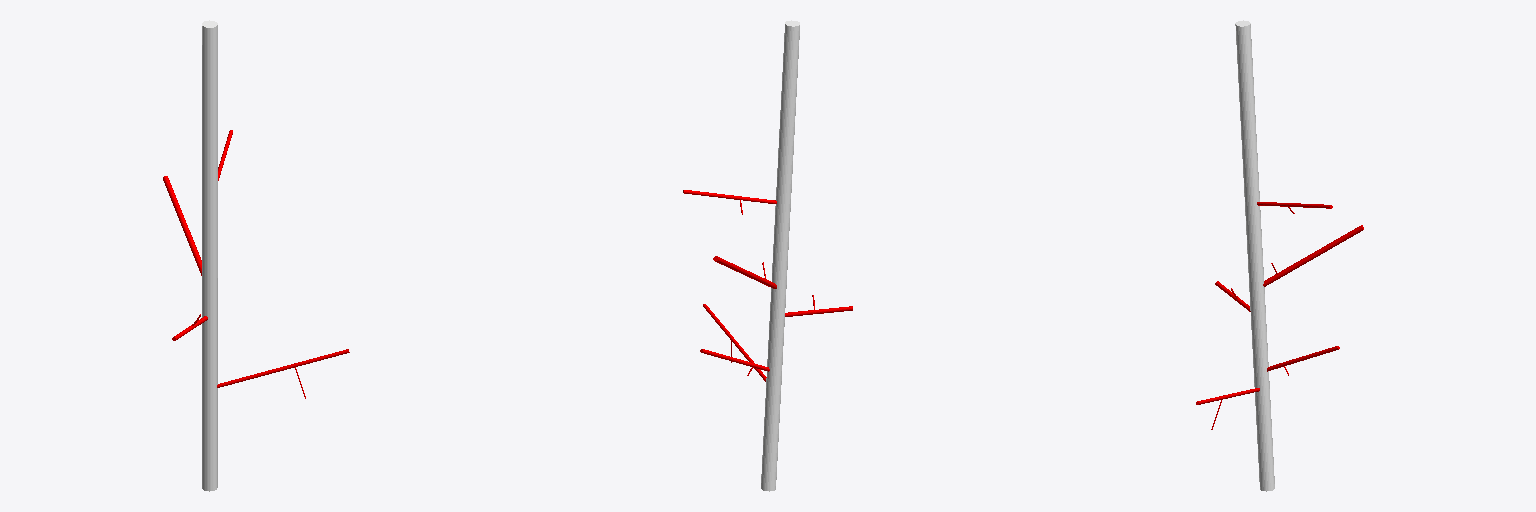
The robot description file, URDF, robot "tree_56.urdf":
<?xml version='1.0' encoding='UTF-8'?>
<robot name="tree_56.urdf">
  <link name="branch_0">
    <inertial>
      <origin xyz="0.0 0.0 0.0" rpy="0.0 -0.0 0.0"/>
      <mass value="0.1"/>
      <inertia ixx="0.001" ixy="0.0" ixz="0.0" iyy="0.001" iyz="0.0" izz="0.001"/>
    </inertial>
    <visual name="branch_0_visual">
      <geometry>
        <cylinder radius="0.1600668146808084" length="10.601399977105647"/>
      </geometry>
      <material name="branch_material"/>
      <origin xyz="-0.1450739753530891 -0.25572874151653263 5.292539723146301" rpy="6.938893903907228e-18 0.05549530704414916 -2.0868218185062526"/>
    </visual>
    <collision name="branch_0_collision">
      <geometry>
        <cylinder radius="0.1600668146808084" length="10.601399977105647"/>
      </geometry>
      <origin xyz="-0.1450739753530891 -0.25572874151653263 5.292539723146301" rpy="6.938893903907228e-18 0.05549530704414916 -2.0868218185062526"/>
    </collision>
  </link>
  <link name="branch_1">
    <inertial>
      <origin xyz="0.0 0.0 0.0" rpy="0.0 -0.0 0.0"/>
      <mass value="0.1"/>
      <inertia ixx="0.001" ixy="0.0" ixz="0.0" iyy="0.001" iyz="0.0" izz="0.001"/>
    </inertial>
    <visual name="branch_1_visual">
      <geometry>
        <cylinder radius="0.04061367878512821" length="2.2815057693927216"/>
      </geometry>
      <material name="semantic_material"/>
      <origin xyz="0.0 0.0 0.0" rpy="0.0 -0.0 0.0"/>
    </visual>
    <collision name="branch_1_collision">
      <geometry>
        <cylinder radius="0.04061367878512821" length="2.2815057693927216"/>
      </geometry>
      <origin xyz="0.0 0.0 0.0" rpy="0.0 -0.0 0.0"/>
    </collision>
  </link>
  <link name="branch_2">
    <inertial>
      <origin xyz="0.0 0.0 0.0" rpy="0.0 -0.0 0.0"/>
      <mass value="0.1"/>
      <inertia ixx="0.001" ixy="0.0" ixz="0.0" iyy="0.001" iyz="0.0" izz="0.001"/>
    </inertial>
    <visual name="branch_2_visual">
      <geometry>
        <cylinder radius="0.015655415853292408" length="0.352257299096937"/>
      </geometry>
      <material name="semantic_material"/>
      <origin xyz="0.0 0.0 0.0" rpy="0.0 -0.0 0.0"/>
    </visual>
    <collision name="branch_2_collision">
      <geometry>
        <cylinder radius="0.015655415853292408" length="0.352257299096937"/>
      </geometry>
      <origin xyz="0.0 0.0 0.0" rpy="0.0 -0.0 0.0"/>
    </collision>
  </link>
  <link name="branch_3">
    <inertial>
      <origin xyz="0.0 0.0 0.0" rpy="0.0 -0.0 0.0"/>
      <mass value="0.1"/>
      <inertia ixx="0.001" ixy="0.0" ixz="0.0" iyy="0.001" iyz="0.0" izz="0.001"/>
    </inertial>
    <visual name="branch_3_visual">
      <geometry>
        <cylinder radius="0.04680991028000963" length="1.5893552111070486"/>
      </geometry>
      <material name="semantic_material"/>
      <origin xyz="0.0 0.0 0.0" rpy="0.0 -0.0 0.0"/>
    </visual>
    <collision name="branch_3_collision">
      <geometry>
        <cylinder radius="0.04680991028000963" length="1.5893552111070486"/>
      </geometry>
      <origin xyz="0.0 0.0 0.0" rpy="0.0 -0.0 0.0"/>
    </collision>
  </link>
  <link name="branch_4">
    <inertial>
      <origin xyz="0.0 0.0 0.0" rpy="0.0 -0.0 0.0"/>
      <mass value="0.1"/>
      <inertia ixx="0.001" ixy="0.0" ixz="0.0" iyy="0.001" iyz="0.0" izz="0.001"/>
    </inertial>
    <visual name="branch_4_visual">
      <geometry>
        <cylinder radius="0.017161385823230978" length="0.3566426621047162"/>
      </geometry>
      <material name="semantic_material"/>
      <origin xyz="0.0 0.0 0.0" rpy="0.0 -0.0 0.0"/>
    </visual>
    <collision name="branch_4_collision">
      <geometry>
        <cylinder radius="0.017161385823230978" length="0.3566426621047162"/>
      </geometry>
      <origin xyz="0.0 0.0 0.0" rpy="0.0 -0.0 0.0"/>
    </collision>
  </link>
  <link name="branch_5">
    <inertial>
      <origin xyz="0.0 0.0 0.0" rpy="0.0 -0.0 0.0"/>
      <mass value="0.1"/>
      <inertia ixx="0.001" ixy="0.0" ixz="0.0" iyy="0.001" iyz="0.0" izz="0.001"/>
    </inertial>
    <visual name="branch_5_visual">
      <geometry>
        <cylinder radius="0.05864214304775111" length="2.69558367498351"/>
      </geometry>
      <material name="semantic_material"/>
      <origin xyz="0.0 0.0 0.0" rpy="0.0 -0.0 0.0"/>
    </visual>
    <collision name="branch_5_collision">
      <geometry>
        <cylinder radius="0.05864214304775111" length="2.69558367498351"/>
      </geometry>
      <origin xyz="0.0 0.0 0.0" rpy="0.0 -0.0 0.0"/>
    </collision>
  </link>
  <link name="branch_6">
    <inertial>
      <origin xyz="0.0 0.0 0.0" rpy="0.0 -0.0 0.0"/>
      <mass value="0.1"/>
      <inertia ixx="0.001" ixy="0.0" ixz="0.0" iyy="0.001" iyz="0.0" izz="0.001"/>
    </inertial>
    <visual name="branch_6_visual">
      <geometry>
        <cylinder radius="0.015356543675776355" length="0.4195098819539039"/>
      </geometry>
      <material name="semantic_material"/>
      <origin xyz="0.0 0.0 0.0" rpy="0.0 -0.0 0.0"/>
    </visual>
    <collision name="branch_6_collision">
      <geometry>
        <cylinder radius="0.015356543675776355" length="0.4195098819539039"/>
      </geometry>
      <origin xyz="0.0 0.0 0.0" rpy="0.0 -0.0 0.0"/>
    </collision>
  </link>
  <link name="branch_7">
    <inertial>
      <origin xyz="0.0 0.0 0.0" rpy="0.0 -0.0 0.0"/>
      <mass value="0.1"/>
      <inertia ixx="0.001" ixy="0.0" ixz="0.0" iyy="0.001" iyz="0.0" izz="0.001"/>
    </inertial>
    <visual name="branch_7_visual">
      <geometry>
        <cylinder radius="0.04419329185765832" length="2.0411775003282147"/>
      </geometry>
      <material name="semantic_material"/>
      <origin xyz="0.0 0.0 0.0" rpy="0.0 -0.0 0.0"/>
    </visual>
    <collision name="branch_7_collision">
      <geometry>
        <cylinder radius="0.04419329185765832" length="2.0411775003282147"/>
      </geometry>
      <origin xyz="0.0 0.0 0.0" rpy="0.0 -0.0 0.0"/>
    </collision>
  </link>
  <link name="branch_8">
    <inertial>
      <origin xyz="0.0 0.0 0.0" rpy="0.0 -0.0 0.0"/>
      <mass value="0.1"/>
      <inertia ixx="0.001" ixy="0.0" ixz="0.0" iyy="0.001" iyz="0.0" izz="0.001"/>
    </inertial>
    <visual name="branch_8_visual">
      <geometry>
        <cylinder radius="0.015597719412839226" length="0.2619886497281344"/>
      </geometry>
      <material name="semantic_material"/>
      <origin xyz="0.0 0.0 0.0" rpy="0.0 -0.0 0.0"/>
    </visual>
    <collision name="branch_8_collision">
      <geometry>
        <cylinder radius="0.015597719412839226" length="0.2619886497281344"/>
      </geometry>
      <origin xyz="0.0 0.0 0.0" rpy="0.0 -0.0 0.0"/>
    </collision>
  </link>
  <link name="branch_9">
    <inertial>
      <origin xyz="0.0 0.0 0.0" rpy="0.0 -0.0 0.0"/>
      <mass value="0.1"/>
      <inertia ixx="0.001" ixy="0.0" ixz="0.0" iyy="0.001" iyz="0.0" izz="0.001"/>
    </inertial>
    <visual name="branch_9_visual">
      <geometry>
        <cylinder radius="0.039887384319910964" length="2.924065064680168"/>
      </geometry>
      <material name="semantic_material"/>
      <origin xyz="0.0 0.0 0.0" rpy="0.0 -0.0 0.0"/>
    </visual>
    <collision name="branch_9_collision">
      <geometry>
        <cylinder radius="0.039887384319910964" length="2.924065064680168"/>
      </geometry>
      <origin xyz="0.0 0.0 0.0" rpy="0.0 -0.0 0.0"/>
    </collision>
  </link>
  <link name="branch_10">
    <inertial>
      <origin xyz="0.0 0.0 0.0" rpy="0.0 -0.0 0.0"/>
      <mass value="0.1"/>
      <inertia ixx="0.001" ixy="0.0" ixz="0.0" iyy="0.001" iyz="0.0" izz="0.001"/>
    </inertial>
    <visual name="branch_10_visual">
      <geometry>
        <cylinder radius="0.013939976004270773" length="0.732338111836062"/>
      </geometry>
      <material name="semantic_material"/>
      <origin xyz="0.0 0.0 0.0" rpy="0.0 -0.0 0.0"/>
    </visual>
    <collision name="branch_10_collision">
      <geometry>
        <cylinder radius="0.013939976004270773" length="0.732338111836062"/>
      </geometry>
      <origin xyz="0.0 0.0 0.0" rpy="0.0 -0.0 0.0"/>
    </collision>
  </link>
  <joint name="joint_0_1" type="fixed">
    <parent link="branch_0"/>
    <child link="branch_1"/>
    <axis xyz="1. 0. 0."/>
    <origin xyz="0.5505260532357596 0.5112271526315088 6.791243235068996" rpy="0.042756150391288515 1.3039666587823158 0.8917076697521125"/>
  </joint>
  <joint name="joint_0_3" type="fixed">
    <parent link="branch_0"/>
    <child link="branch_3"/>
    <axis xyz="1. 0. 0."/>
    <origin xyz="-0.7714510637847705 -0.6218524305942258 3.997317647083939" rpy="-0.29671317788538776 1.4829725288516165 -2.862463582889561"/>
  </joint>
  <joint name="joint_0_5" type="fixed">
    <parent link="branch_0"/>
    <child link="branch_5"/>
    <axis xyz="1. 0. 0."/>
    <origin xyz="-0.0036738654221570785 0.8869122953038995 5.316662532020565" rpy="-0.03770159538203674 0.9721167268137185 1.416079383547747"/>
  </joint>
  <joint name="joint_0_7" type="fixed">
    <parent link="branch_0"/>
    <child link="branch_7"/>
    <axis xyz="1. 0. 0."/>
    <origin xyz="0.3415835237208092 0.6783166042544579 3.134652548694434" rpy="-0.004890441645259021 1.0956041364447702 1.090708996665761"/>
  </joint>
  <joint name="joint_0_9" type="fixed">
    <parent link="branch_0"/>
    <child link="branch_9"/>
    <axis xyz="1. 0. 0."/>
    <origin xyz="1.1671972801508312 -0.789534617504506 2.67504437162096" rpy="0.19764283701796112 1.2845270813698284 -0.2993255168090658"/>
  </joint>
  <joint name="joint_1_2" type="fixed">
    <parent link="branch_0"/>
    <child link="branch_2"/>
    <axis xyz="1. 0. 0."/>
    <origin xyz="0.3798365526291206 0.47899736145342503 6.611570990634541" rpy="2.501375185262705 0.13543375550248854 -2.1925380038251747"/>
  </joint>
  <joint name="joint_3_4" type="fixed">
    <parent link="branch_0"/>
    <child link="branch_4"/>
    <axis xyz="1. 0. 0."/>
    <origin xyz="-0.7035779758837861 -0.6880739774113802 4.148538338160577" rpy="0.545987164452719 0.09214844756823151 0.5819055127740468"/>
  </joint>
  <joint name="joint_5_6" type="fixed">
    <parent link="branch_0"/>
    <child link="branch_6"/>
    <axis xyz="1. 0. 0."/>
    <origin xyz="0.0017245713952205677 0.1576538614497649 5.0448951304324225" rpy="-0.3776589528010768 0.34688436826606195 -1.5592326122865983"/>
  </joint>
  <joint name="joint_7_8" type="fixed">
    <parent link="branch_0"/>
    <child link="branch_8"/>
    <axis xyz="1. 0. 0."/>
    <origin xyz="0.2046269705457705 0.39074758278806154 2.824889916736935" rpy="-3.062697002535872 0.5890923421714652 -2.035280383561191"/>
  </joint>
  <joint name="joint_9_10" type="fixed">
    <parent link="branch_0"/>
    <child link="branch_10"/>
    <axis xyz="1. 0. 0."/>
    <origin xyz="1.501861792673228 -1.050510684157442 2.421314137675694" rpy="-2.957091771458181 0.31472428385293716 2.6431059092203433"/>
  </joint>
  <material name="branch_material">
    <color rgba="1. 1. 1. 1."/>
  </material>
  <material name="semantic_material">
    <color rgba="1. 0. 0. 1."/>
  </material>
</robot>

--- Render facts (derived) ---
3 views of the same robot in one strip: view 1: azimuth 30°, elevation 25°; view 2: azimuth 150°, elevation 25°; view 3: azimuth 270°, elevation 25° (orthographic).
Model tree_56.urdf with 11 links and 10 joints (10 fixed), rooted at branch_0, posed every joint at zero.
Visible links, largest first — view 1: branch_0, branch_5, branch_9; view 2: branch_0; view 3: branch_0, branch_5.
Link boxes in pixels (x1,y1,x2,y2): branch_0: (202,20,217,491); branch_5: (163,176,201,275); branch_9: (217,349,349,387); branch_0: (761,20,799,491); branch_0: (1235,20,1274,491); branch_5: (1263,225,1363,286).
Size in the robot's own frame: 3.88 by 3.53 by 10.6 metres.
Geometry: primitives only (box / cylinder / sphere), no mesh files.
